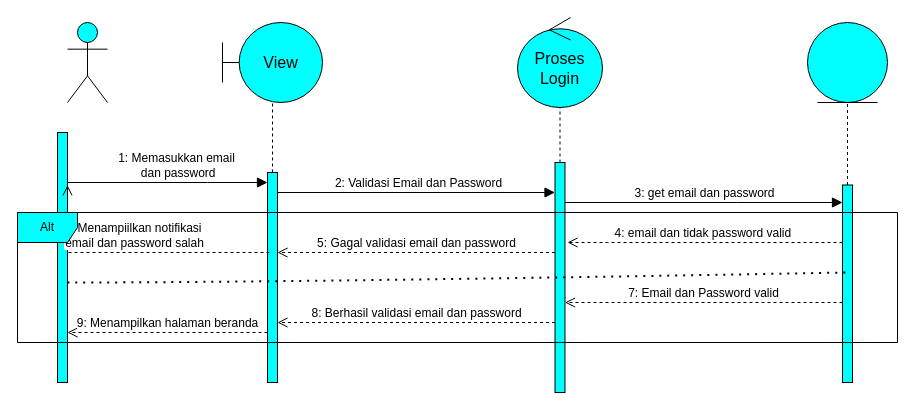
This 915x410 diagram has some shape labels left out. The centre of each missing label's shape, as x and y in pixels:
"Admin" belongs at (x=87, y=62).
"Database" belongs at (x=847, y=62).
